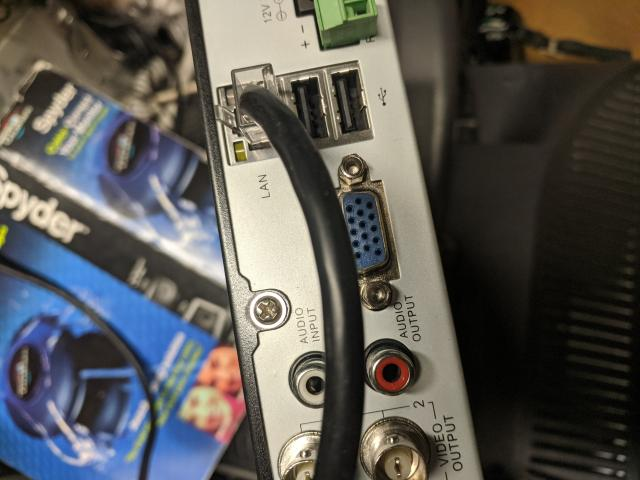CRS: (253, 296, 283, 326)
